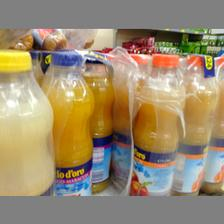Saft: (1, 46, 56, 194), (130, 52, 184, 194), (44, 47, 92, 195)
